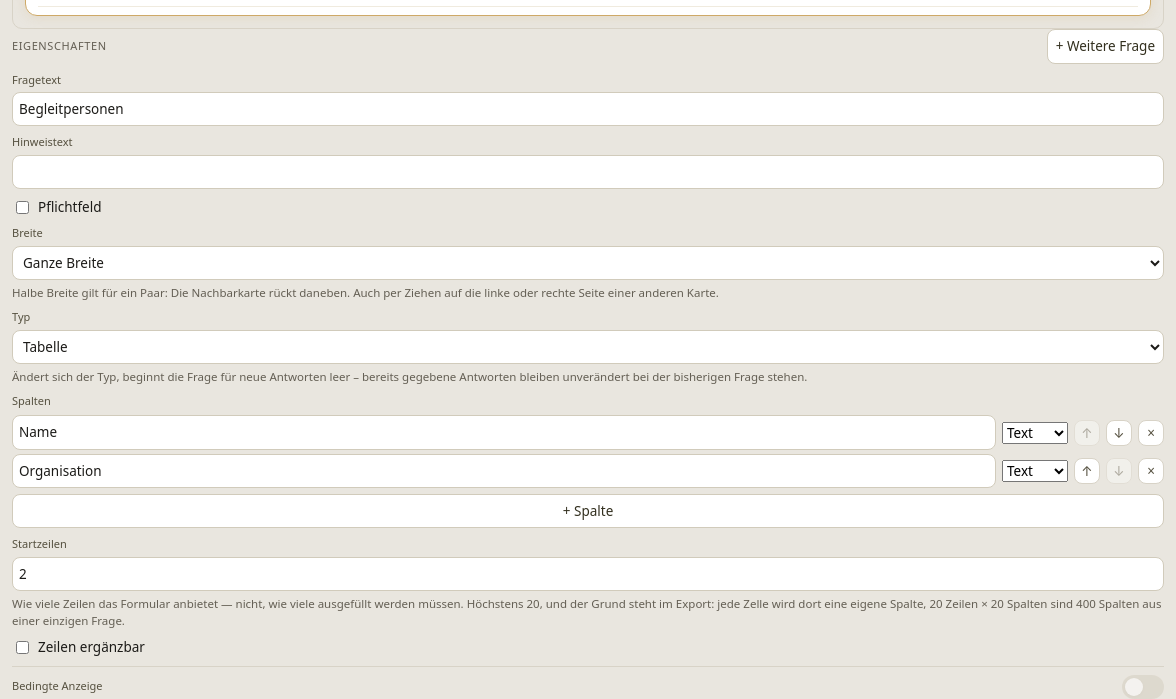
die Live-Vorschau zeigt „+ Zeile" › draws „+ Zeile" the moment „Zeilen ergänzbar" is ticked
(page scrolled)
Click the checkbox labelled "Zeilen ergänzbar". click: [22, 648]
box: [16,641,29,654]
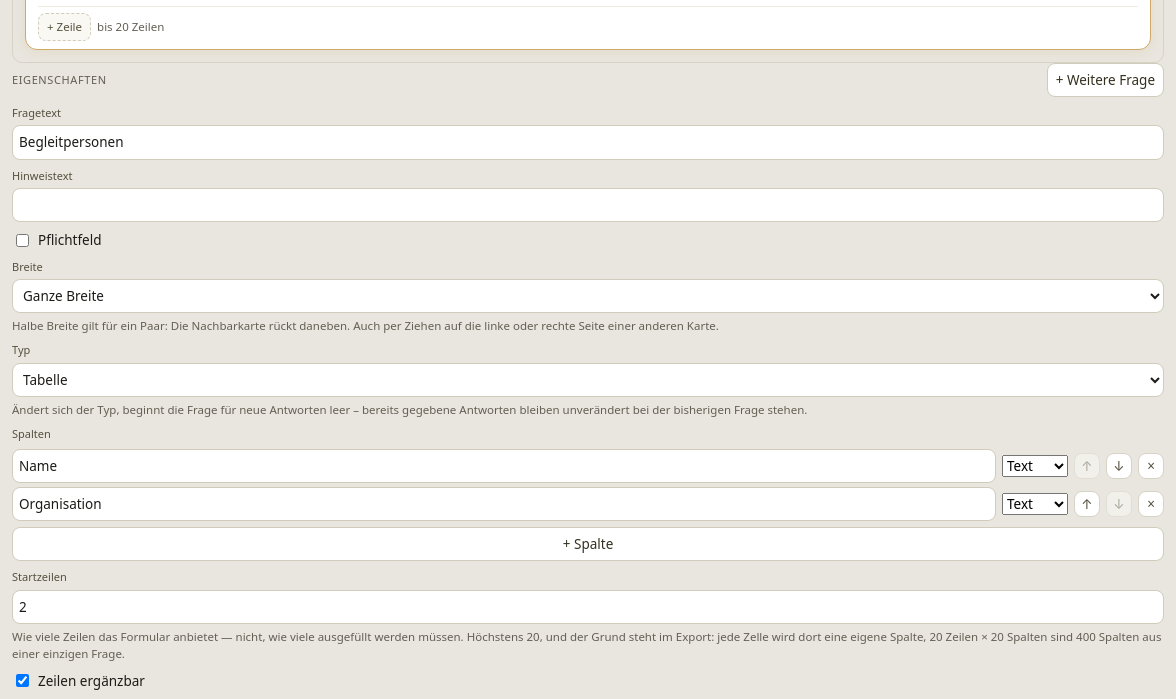
Result: the button "+ Zeile" is shown at [38,13,91,41]
